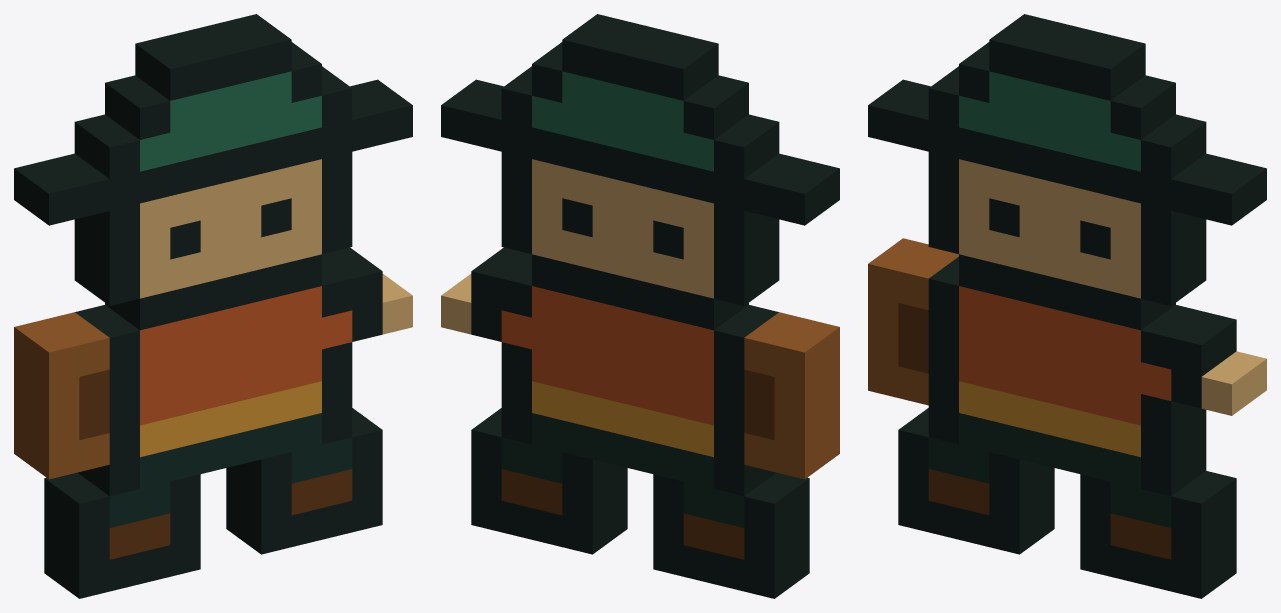
Rendered from explorer.glb.
3 views of the same model, side by side, from view 1: azimuth 30°, elevation 25°; view 2: azimuth 150°, elevation 25°; view 3: azimuth 330°, elevation 25° (orthographic).
Visible parts, largest first — view 1: StepQuest explorer; view 2: StepQuest explorer; view 3: StepQuest explorer.
Boxes of the visible parts, box(x1,y1,x2,y2) form: StepQuest explorer: box(14, 14, 412, 598); StepQuest explorer: box(441, 14, 839, 598); StepQuest explorer: box(868, 14, 1266, 598).
Bounding box in the file's own units: 0.24 × 0.32 × 0.04.
